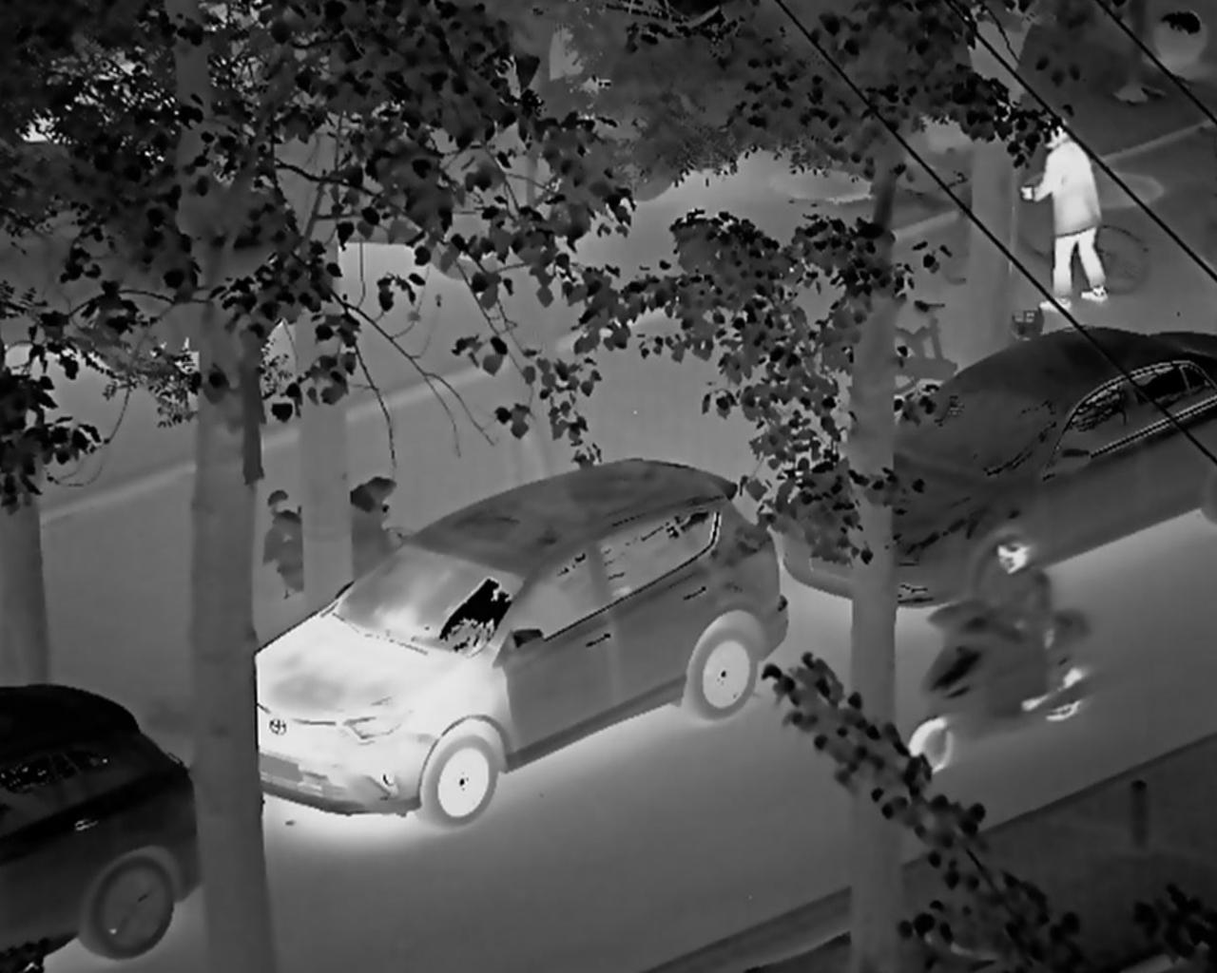person: (1023, 119, 1098, 319), (982, 535, 1058, 715)
